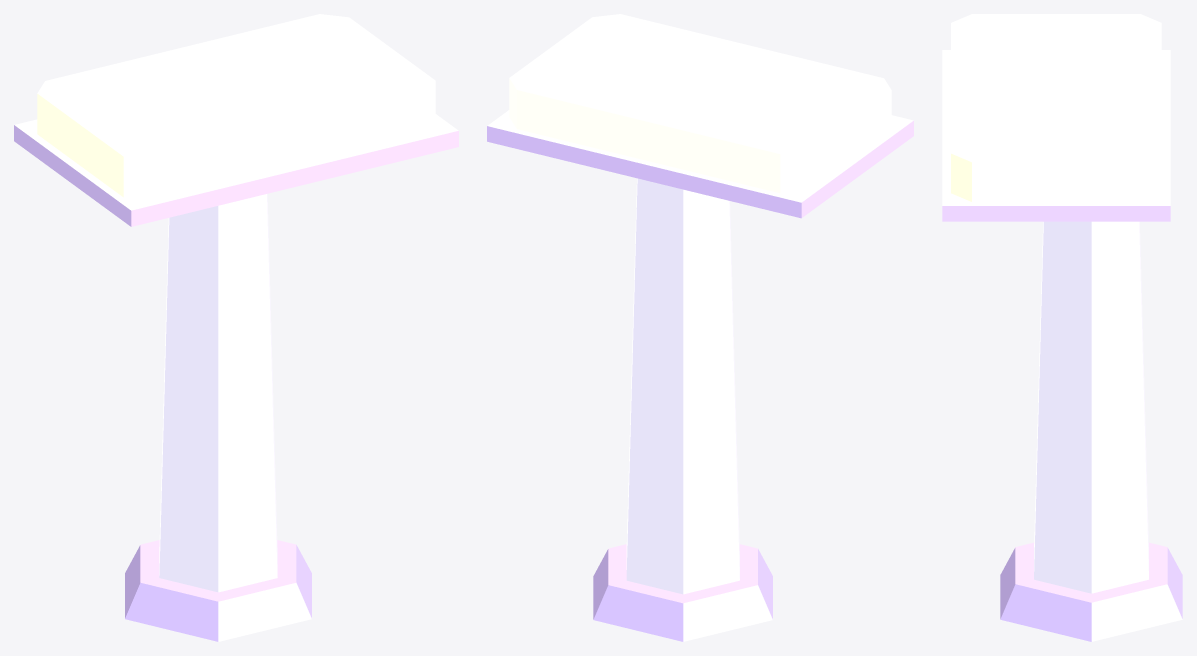
Rendered from mirror-shelf.glb.
3 views of the same model, side by side, from view 1: azimuth 30°, elevation 25°; view 2: azimuth 150°, elevation 25°; view 3: azimuth 270°, elevation 25° (orthographic). The views are drawn at different scales.
Visible parts, largest first — view 1: mirror-shelf; view 2: mirror-shelf; view 3: mirror-shelf.
Part boxes in pixels (<box>): mirror-shelf: <box>14,14,458,641</box>; mirror-shelf: <box>487,14,913,641</box>; mirror-shelf: <box>942,14,1182,641</box>.
Bounding box in the file's own units: 2.1 × 3.2 × 1.37.
